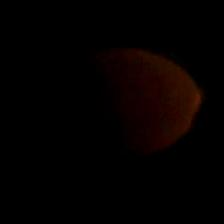fertile: (50, 43, 202, 160)
